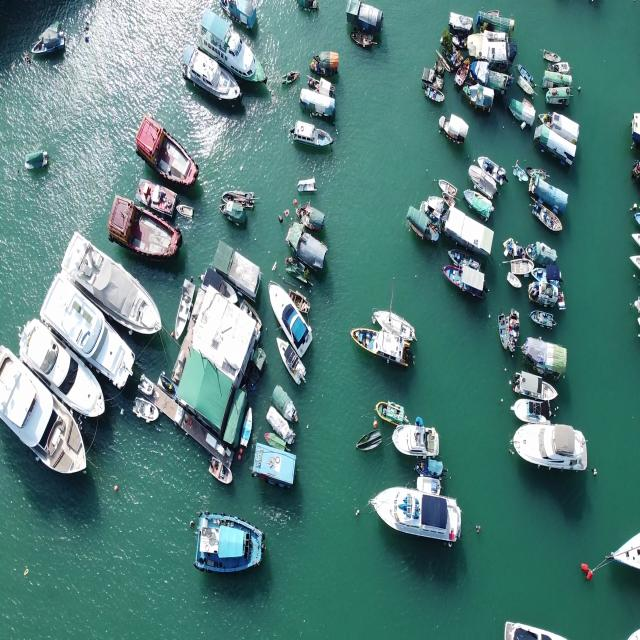ship: (1, 345, 97, 483), (68, 230, 162, 344), (22, 320, 98, 416), (368, 483, 470, 546), (192, 502, 268, 571), (198, 16, 271, 87), (138, 115, 196, 194), (103, 201, 186, 256), (507, 424, 598, 473), (177, 49, 245, 103), (266, 276, 312, 354)
